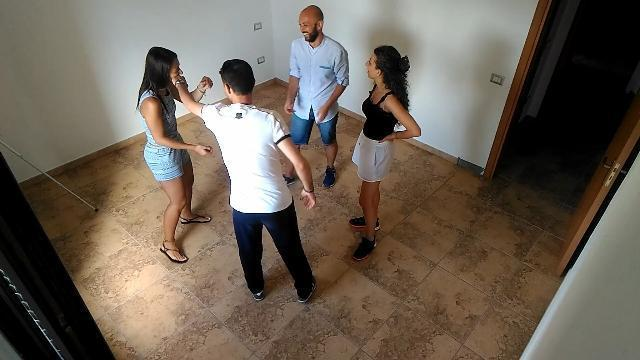non-violence: (348, 44, 419, 260), (285, 3, 347, 187)
violence: (140, 45, 316, 303)
